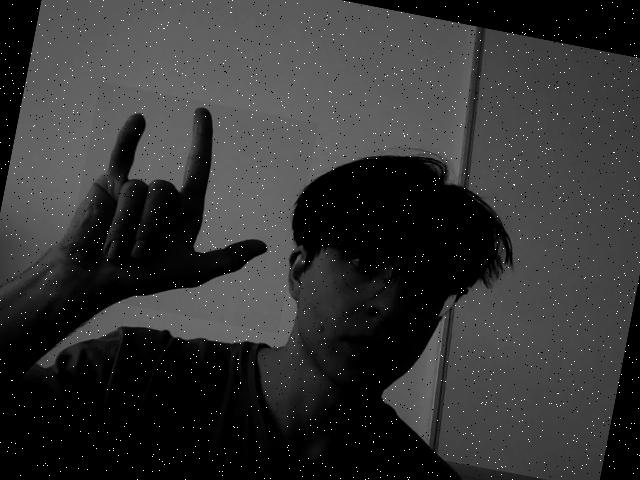I_Love_You: (59, 82, 318, 334)
